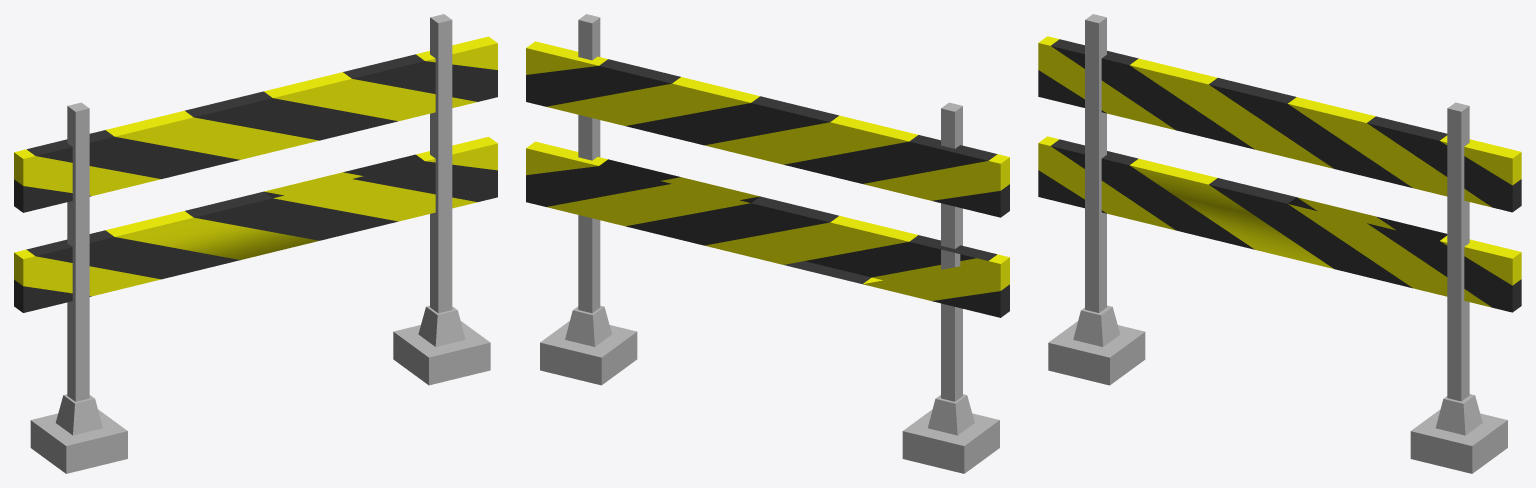
Rendered from SM_ConstructSign_05.FBX.
3 views of the same model, side by side, from view 1: azimuth 30°, elevation 25°; view 2: azimuth 150°, elevation 25°; view 3: azimuth 330°, elevation 25° (orthographic).
Parts seen in each view (by area): view 1: SM_ConstructSign_05; view 2: SM_ConstructSign_05; view 3: SM_ConstructSign_05.
Part boxes in pixels (bbox=[...]): SM_ConstructSign_05: bbox=[14, 14, 497, 473]; SM_ConstructSign_05: bbox=[526, 14, 1009, 473]; SM_ConstructSign_05: bbox=[1038, 14, 1521, 473].
Bounding box in the file's own units: 1.16 × 0.808 × 0.1505.
1 material, 1 textured.
